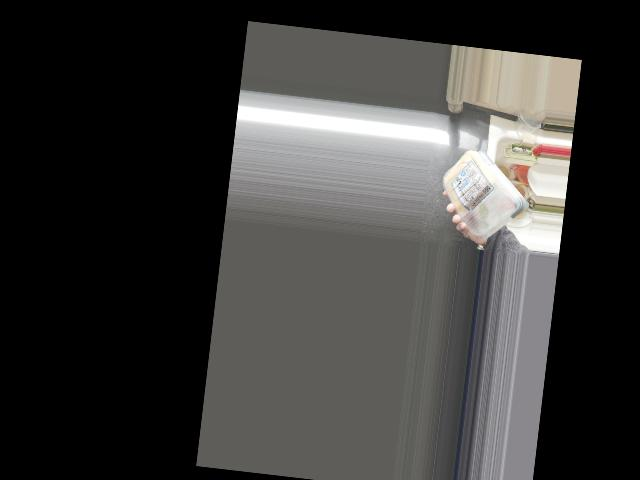cheese: (442, 146, 521, 241)
